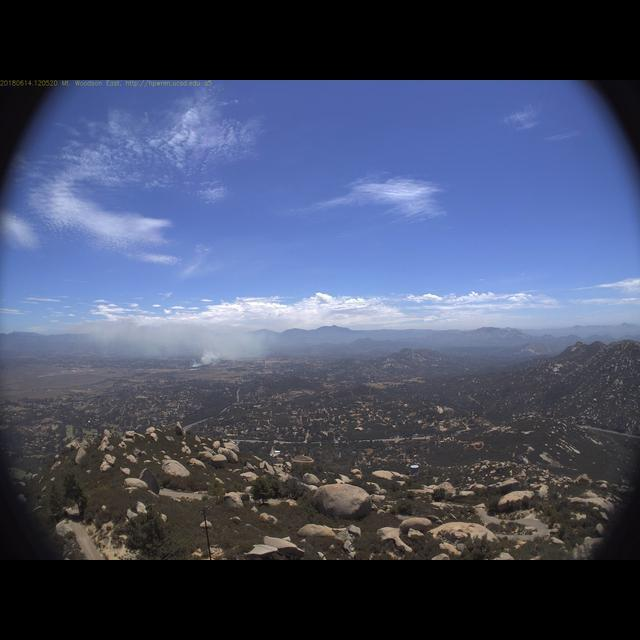Smoke: (85, 310, 265, 369)
